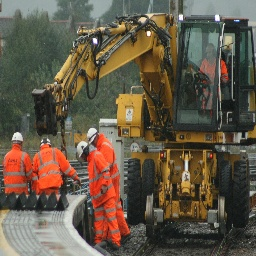helmet: (76, 140, 91, 161), (8, 131, 27, 146), (86, 126, 99, 142)
person: (74, 141, 120, 248), (35, 139, 72, 195), (4, 127, 32, 193)
vest: (32, 143, 67, 193), (83, 153, 112, 201), (5, 148, 33, 193)
